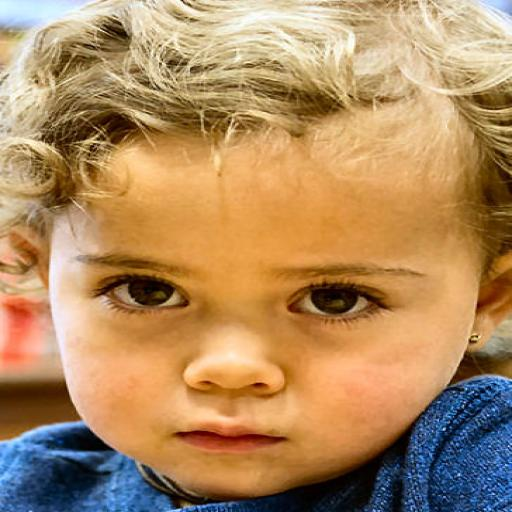Autism: (22, 19, 512, 488)
